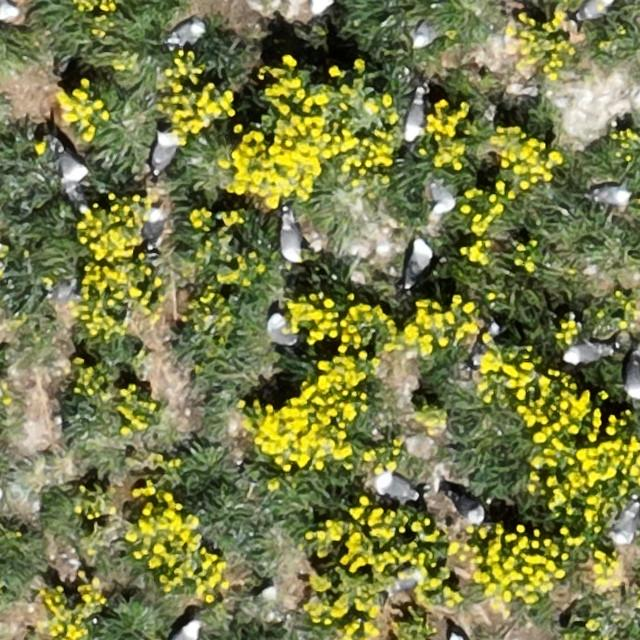umineko: (55, 147, 85, 184), (406, 238, 431, 281), (405, 94, 426, 142), (614, 502, 638, 543), (153, 130, 176, 170), (378, 474, 416, 498), (563, 342, 606, 363), (279, 218, 300, 260), (453, 496, 484, 524), (171, 20, 205, 44), (267, 314, 291, 347), (146, 209, 166, 247), (593, 187, 631, 206), (578, 1, 610, 20), (625, 356, 639, 397), (168, 622, 197, 640), (310, 0, 334, 13), (0, 2, 16, 20)
